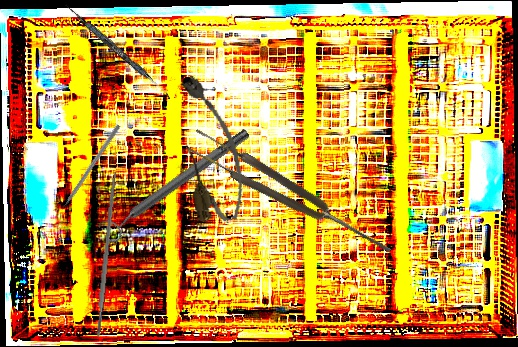Cannula: (172, 70, 250, 226)
Fixation Ring: (95, 122, 257, 246)
Pusher: (53, 123, 122, 219)
Scalpel Handle: (93, 170, 119, 339)
Spatula Surgical: (61, 2, 175, 100)
Tissue Forceps: (184, 125, 397, 265)
